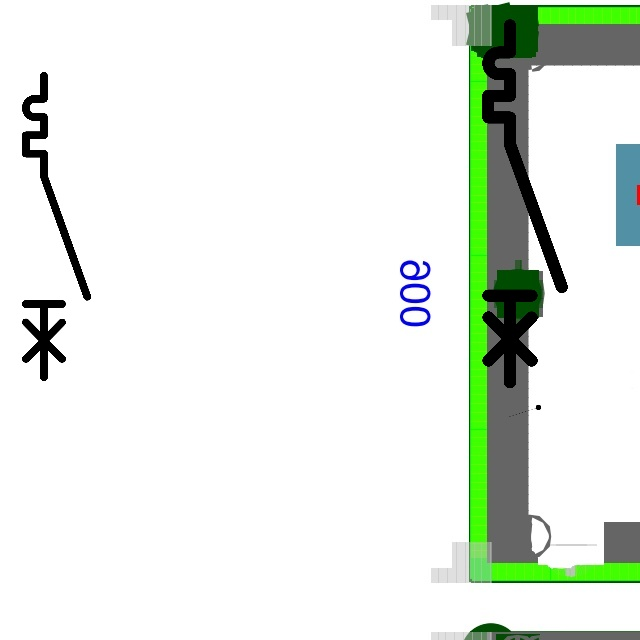interruptor_termomagnetico: (479, 16, 571, 391), (18, 68, 95, 385)
